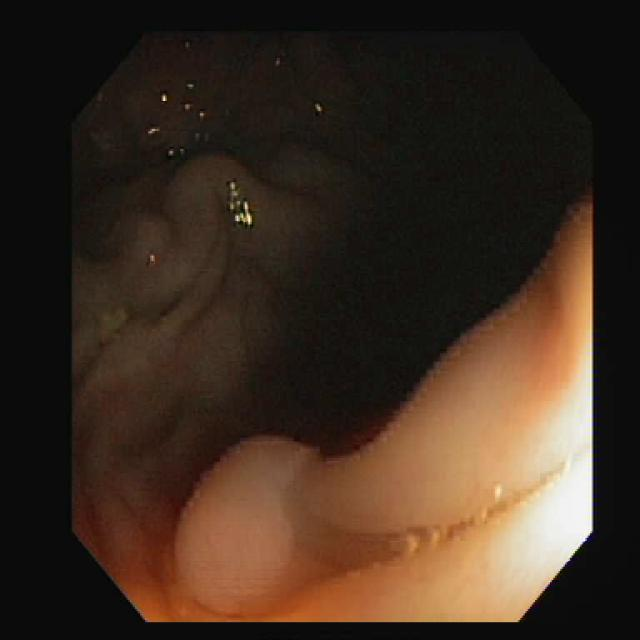tumor: (177, 438, 293, 620)
